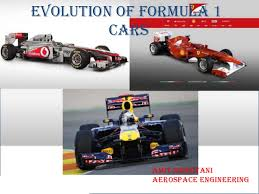f1_car: (69, 90, 196, 173), (1, 28, 130, 78), (147, 27, 250, 83)
